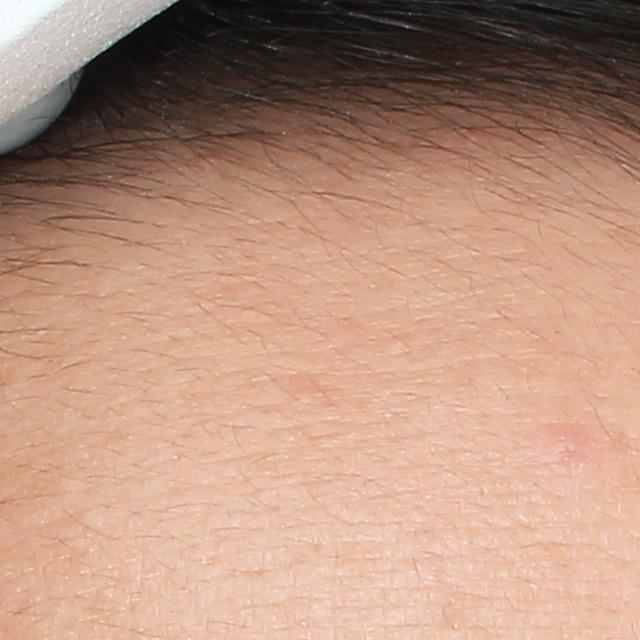papule: (546, 427, 578, 466)
